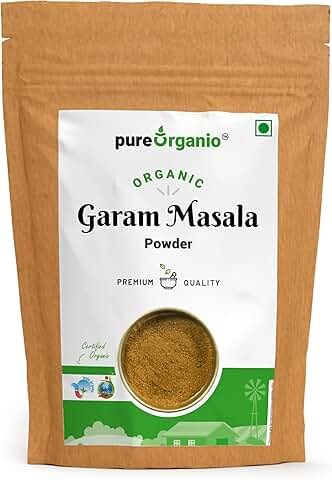Garamasala: (2, 5, 332, 480)
